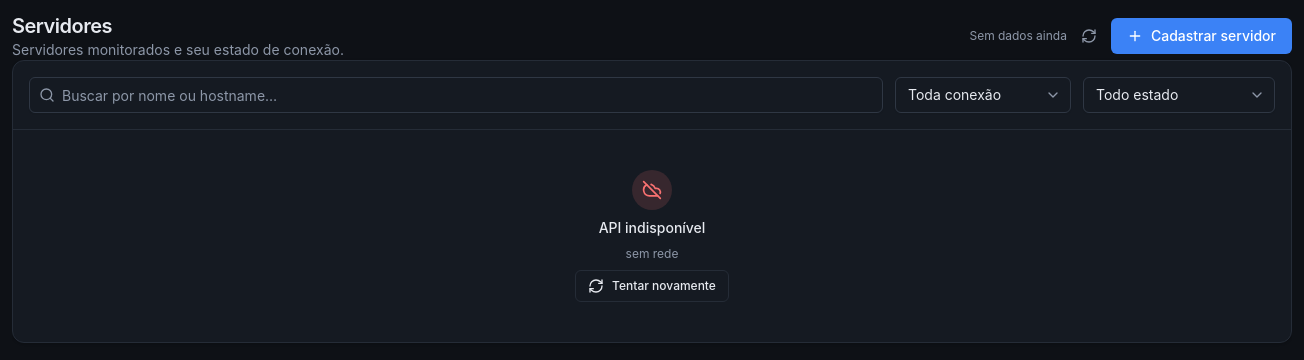
ServersPage › exibe erro de API — distinto de lista vazia — e permite tentar de novo
Expected: the message shows "API indisponível", [599,219,705,236]
Click the button "Tentar novamente" at coordinates (652, 286), box [575,270,729,302]
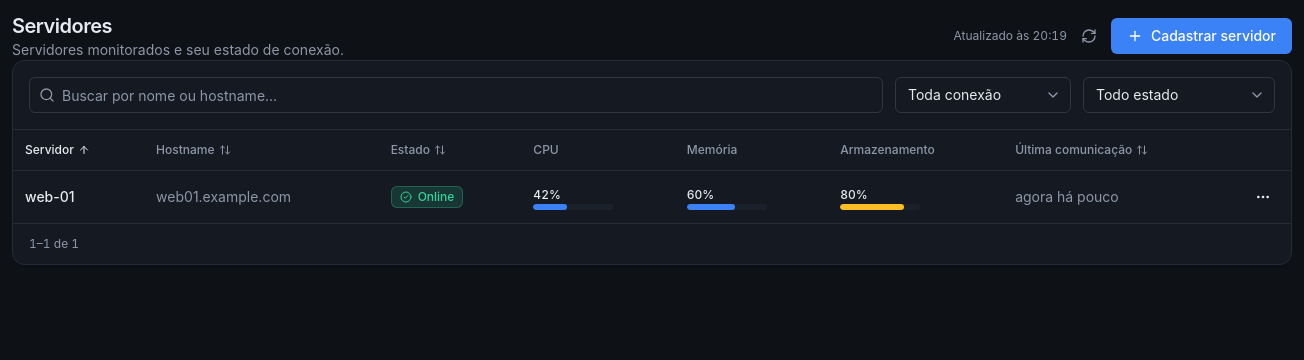
Expected: the link "web-01" is shown, [25,188,75,204]
